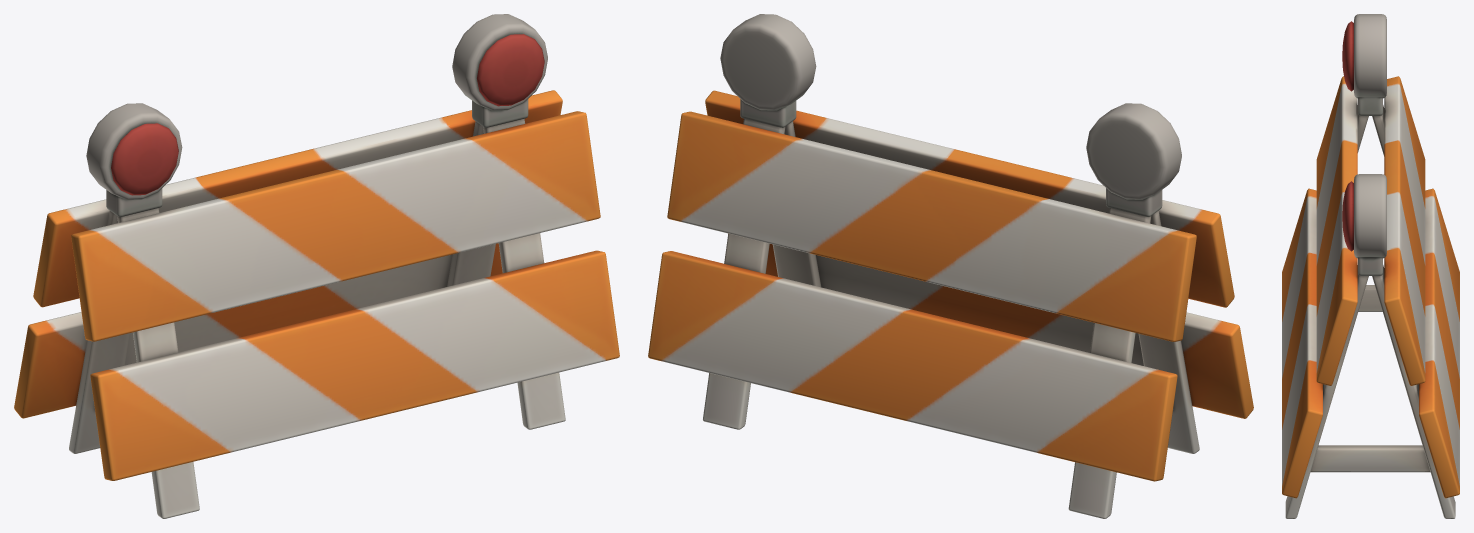
File: KeepOutSign.fbx
The picture shows the model from 3 angles, left to right: view 1: azimuth 30°, elevation 25°; view 2: azimuth 150°, elevation 25°; view 3: azimuth 270°, elevation 25°; orthographic projection. The views are drawn at different scales.
Parts seen in each view (by area): view 1: KeepOutSign; view 2: KeepOutSign; view 3: KeepOutSign.
Boxes of the visible parts, bbox=[...] form: KeepOutSign: bbox=[14, 14, 619, 518]; KeepOutSign: bbox=[648, 14, 1253, 518]; KeepOutSign: bbox=[1282, 14, 1459, 518].
Bounding box in the file's own units: 232 × 162 × 78.29.
